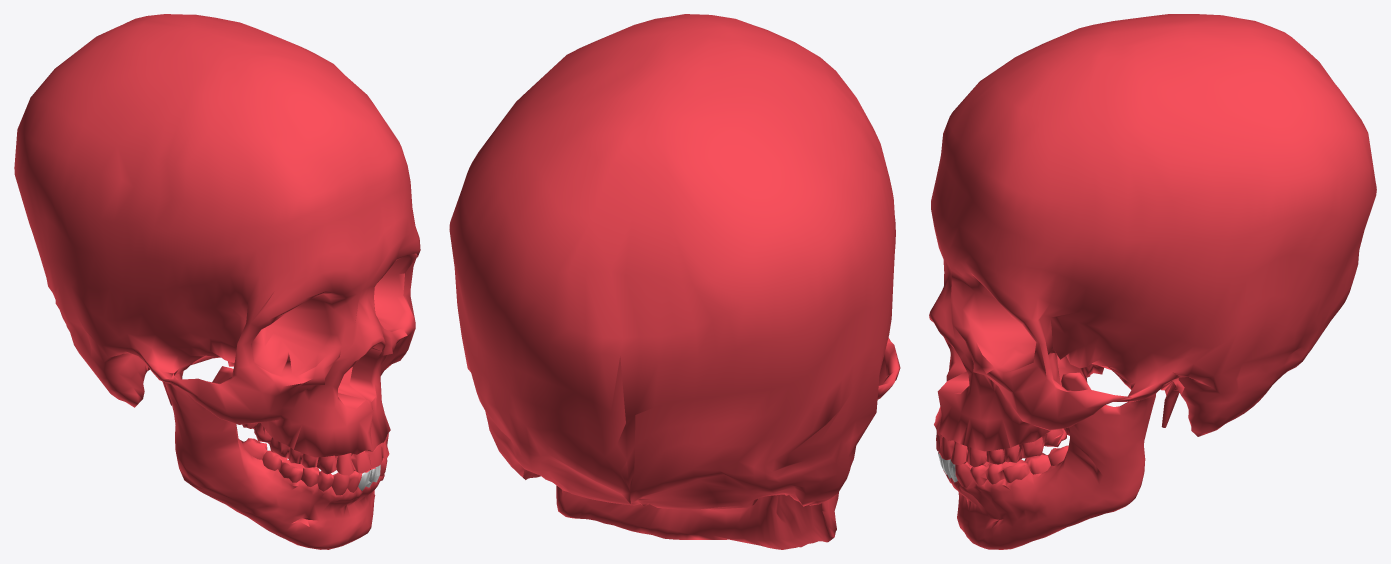
File: skull_labiaal.gltf
3 views of the same model, side by side, from view 1: azimuth 30°, elevation 25°; view 2: azimuth 150°, elevation 25°; view 3: azimuth 270°, elevation 25° (orthographic). The views are drawn at different scales.
Visible parts, largest first — view 1: skull; view 2: skull; view 3: skull.
Boxes of the visible parts, box(x1,y1,x2,y2) form: skull: box(14, 14, 420, 549); skull: box(449, 14, 900, 549); skull: box(929, 14, 1376, 549).
Bounding box in the file's own units: 5.23 × 7.32 × 6.14.
